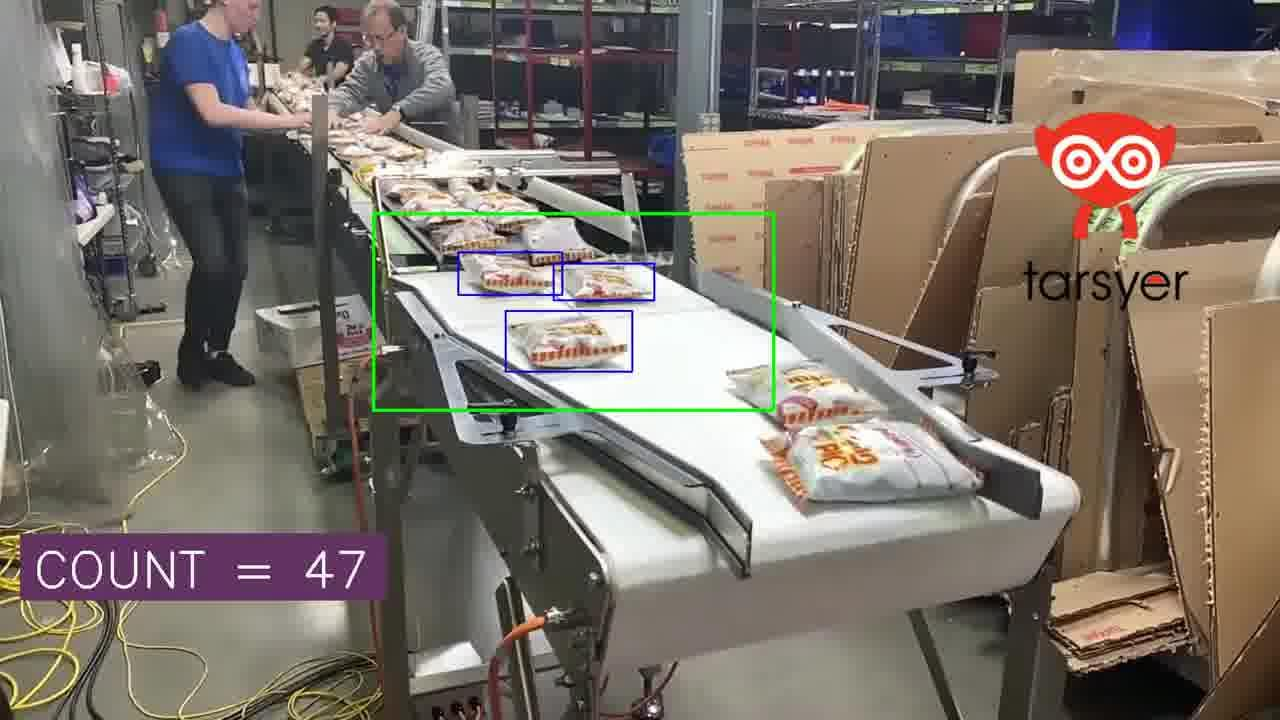Snack: (763, 418, 981, 502), (776, 361, 887, 428), (510, 318, 627, 368), (460, 253, 553, 293), (458, 190, 541, 231), (522, 218, 600, 261), (563, 263, 653, 299), (431, 218, 509, 251), (402, 189, 468, 226), (382, 178, 438, 199), (381, 142, 424, 161), (362, 135, 401, 150), (337, 145, 375, 159), (327, 130, 358, 147)
